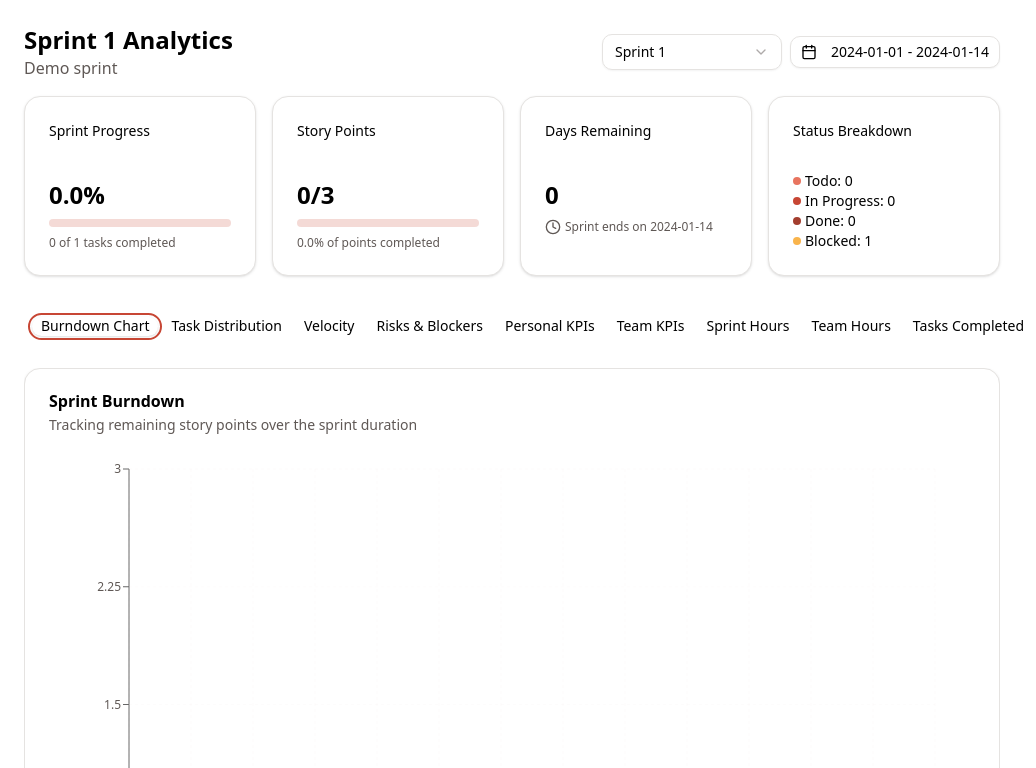
Test case: SprintAnalyticsDashboard › renders personal KPIs correctly
Check: the heading "Sprint 1 Analytics" is shown, box [24,24,233,56]
Click the tab "Personal KPIs": point(550, 326) [496,316,604,336]
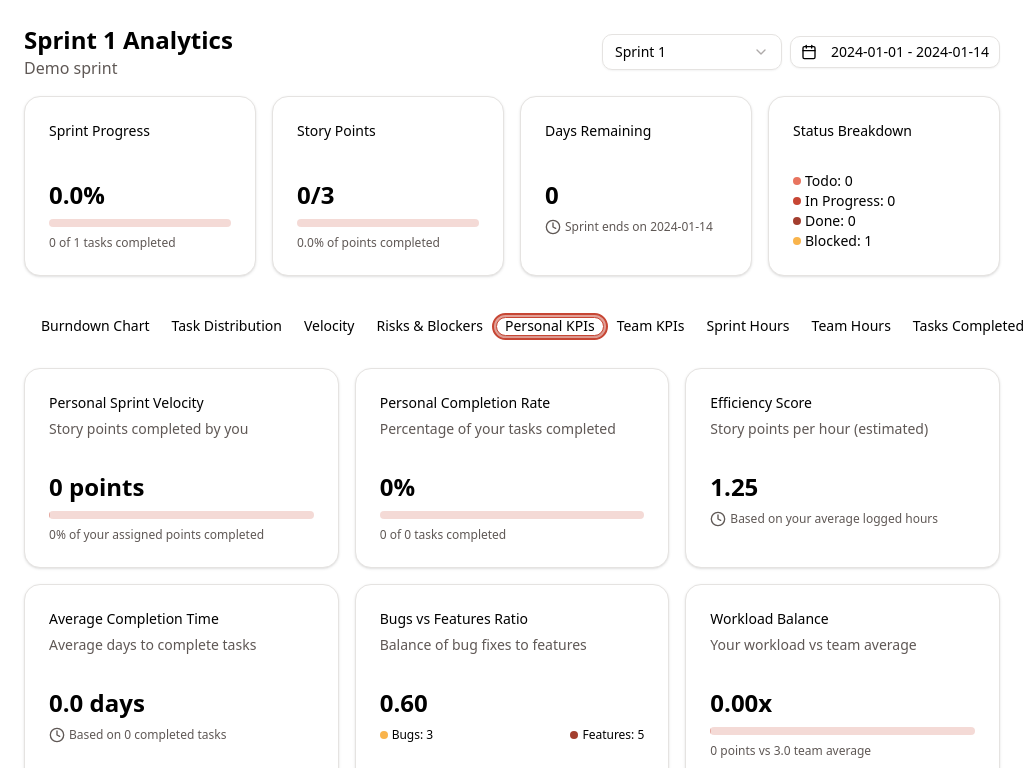
Check: the text "Story points completed by you" is shown, box [49,419,248,438]
Check: the text "Personal Sprint Velocity" is shown, box [49,393,204,412]
Check: the text "Personal Completion Rate" is shown, box [380,393,550,412]
